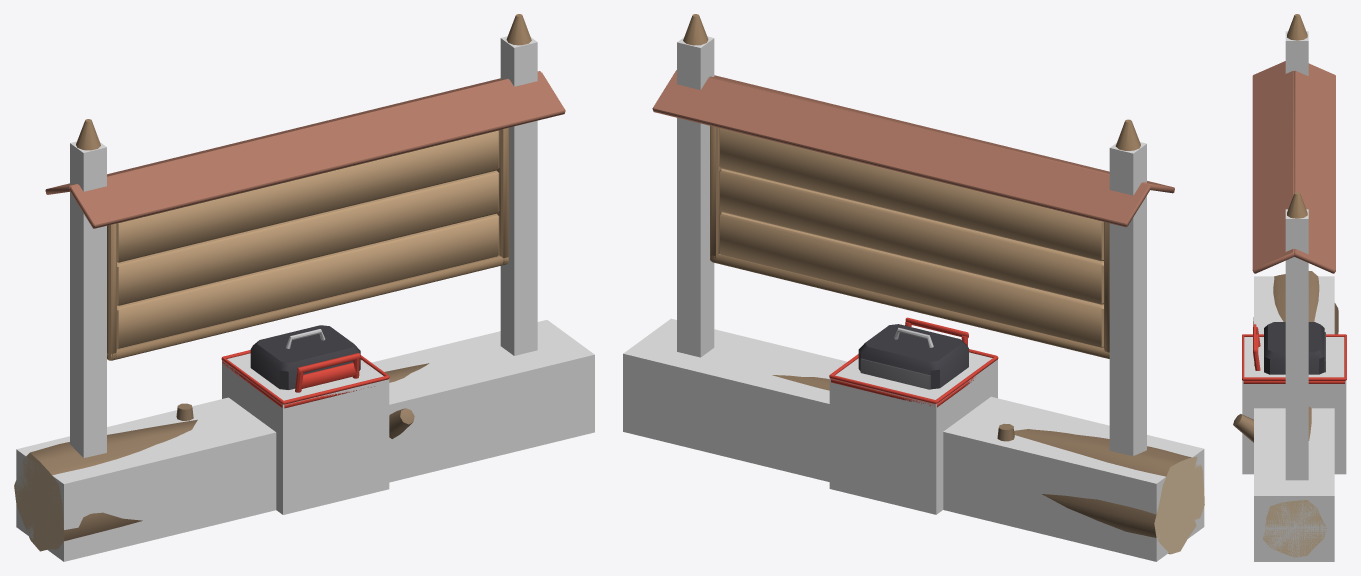
File: lobby.glb
3 renders of one model, left to right at view 1: azimuth 30°, elevation 25°; view 2: azimuth 150°, elevation 25°; view 3: azimuth 270°, elevation 25°, orthographic. The views are drawn at different scales.
Visible parts, largest first — view 1: PlacaArea, Col_Tronco_a_1, Col_MesaBar_1, Col_PlacaArea_1, Col_PlacaArea_2, Tronco_a, CaixaSom, MesaBar, CadeiraBar; view 2: PlacaArea, Col_Tronco_a_1, Col_MesaBar_1, Col_PlacaArea_1, Col_PlacaArea_2, Tronco_a, CaixaSom, MesaBar; view 3: PlacaArea, Col_Tronco_a_1, Col_PlacaArea_2, Col_MesaBar_1, Tronco_a, CaixaSom, MesaBar, Col_PlacaArea_1, CadeiraBar.
Boxes of the visible parts, box(x1,y1,x2,y2) form: PlacaArea: box(45, 14, 565, 360); Col_Tronco_a_1: box(16, 320, 594, 561); Col_MesaBar_1: box(222, 353, 389, 514); Col_PlacaArea_1: box(70, 141, 106, 457); Col_PlacaArea_2: box(500, 36, 537, 355); Tronco_a: box(14, 363, 429, 551); CaixaSom: box(250, 325, 360, 389); MesaBar: box(221, 350, 389, 408); CadeiraBar: box(295, 353, 360, 392); PlacaArea: box(652, 14, 1174, 358); Col_Tronco_a_1: box(623, 318, 1204, 561); Col_MesaBar_1: box(829, 352, 997, 514); Col_PlacaArea_1: box(1109, 142, 1146, 455); Col_PlacaArea_2: box(677, 36, 714, 357); Tronco_a: box(772, 375, 1204, 554); CaixaSom: box(858, 324, 968, 389); MesaBar: box(829, 349, 998, 407); PlacaArea: box(1252, 14, 1335, 273); Col_Tronco_a_1: box(1254, 276, 1334, 561); Col_PlacaArea_2: box(1285, 209, 1308, 480); Col_MesaBar_1: box(1242, 337, 1346, 474); Tronco_a: box(1233, 271, 1338, 557); CaixaSom: box(1264, 322, 1325, 374); MesaBar: box(1242, 334, 1346, 383); Col_PlacaArea_1: box(1285, 31, 1308, 76); CadeiraBar: box(1253, 324, 1260, 370).
Size of the model in its own units: 3.6 by 2.71 by 0.7887.
